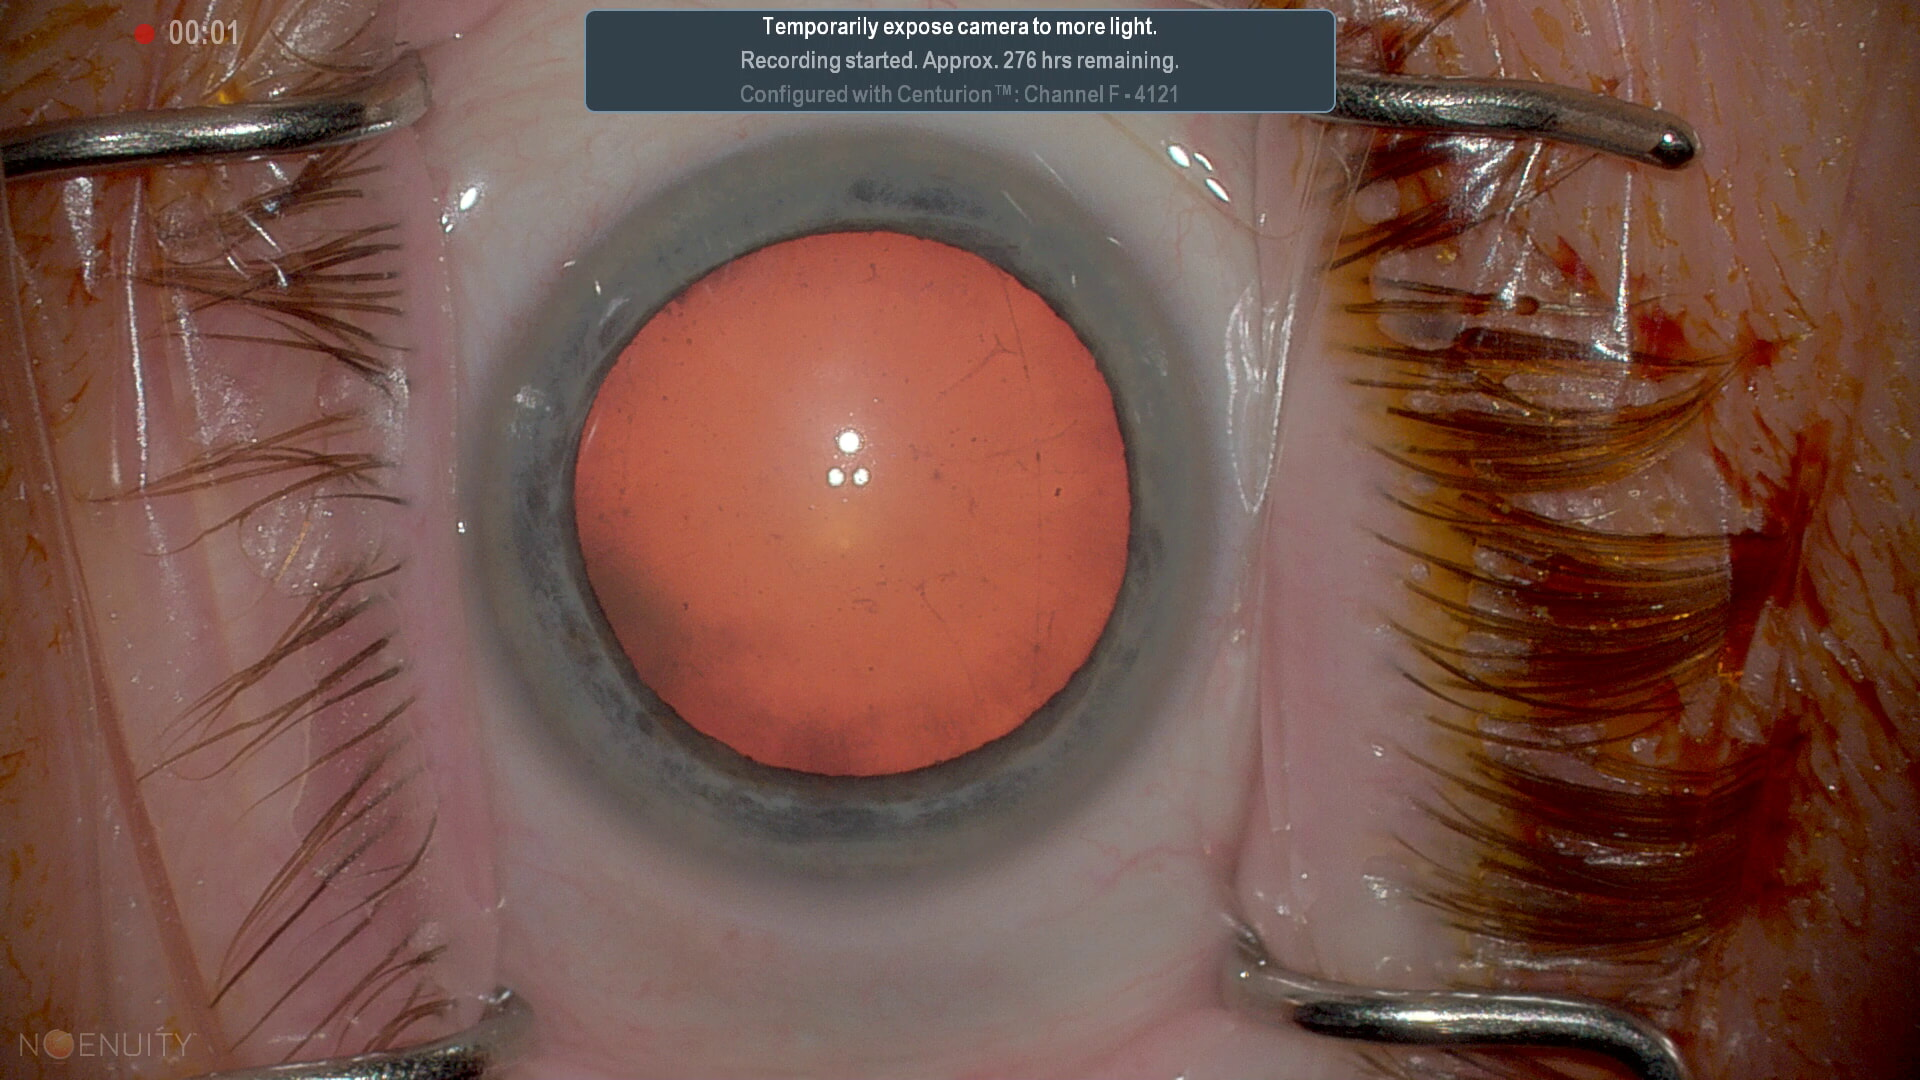iris: (493, 136, 1220, 873)
pupil: (560, 219, 1145, 780)
